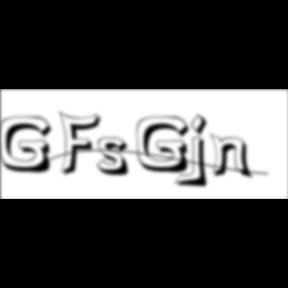F: (59, 110, 107, 178)
G: (138, 116, 197, 176), (0, 116, 58, 176)
j: (188, 113, 216, 191)
n: (210, 132, 258, 181)
s: (98, 137, 136, 179)
